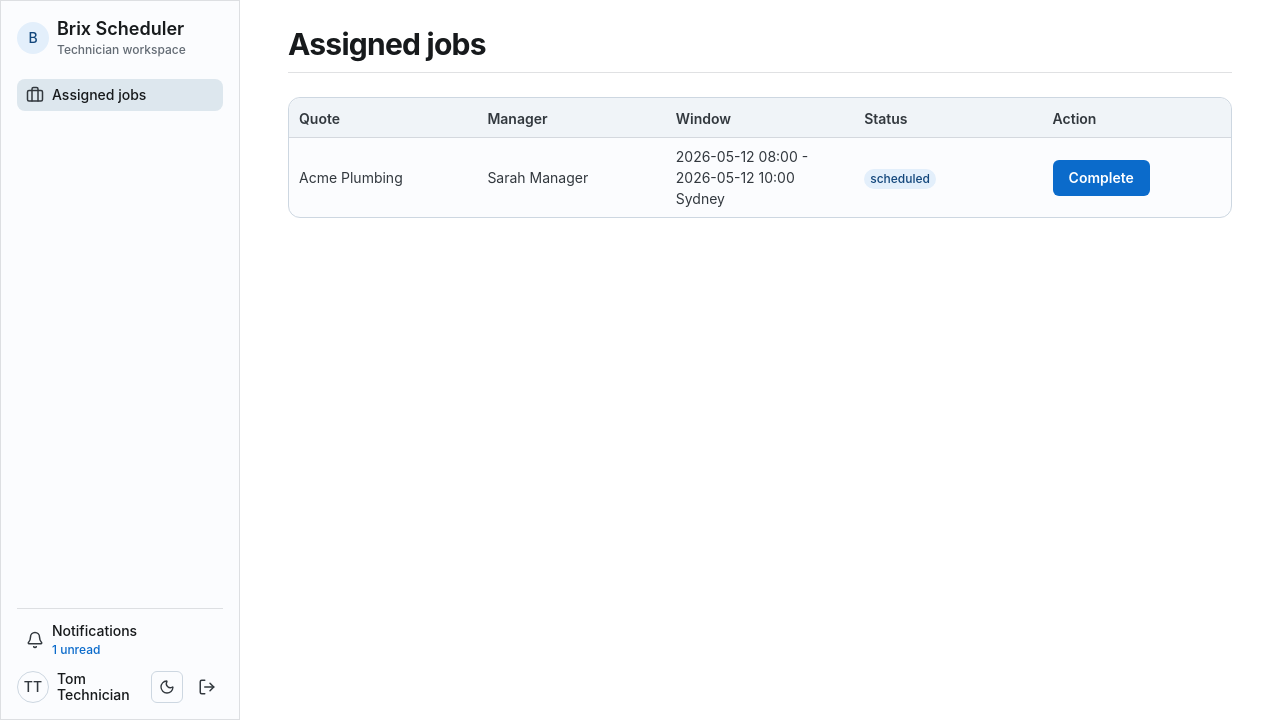
Test: technician dashboard › Assignment notification renders in the notification drawer
This screenshot has width=1280, height=720.
Click the button with aria-label "Open notifications" at (82, 639), box [26,622,137,657]
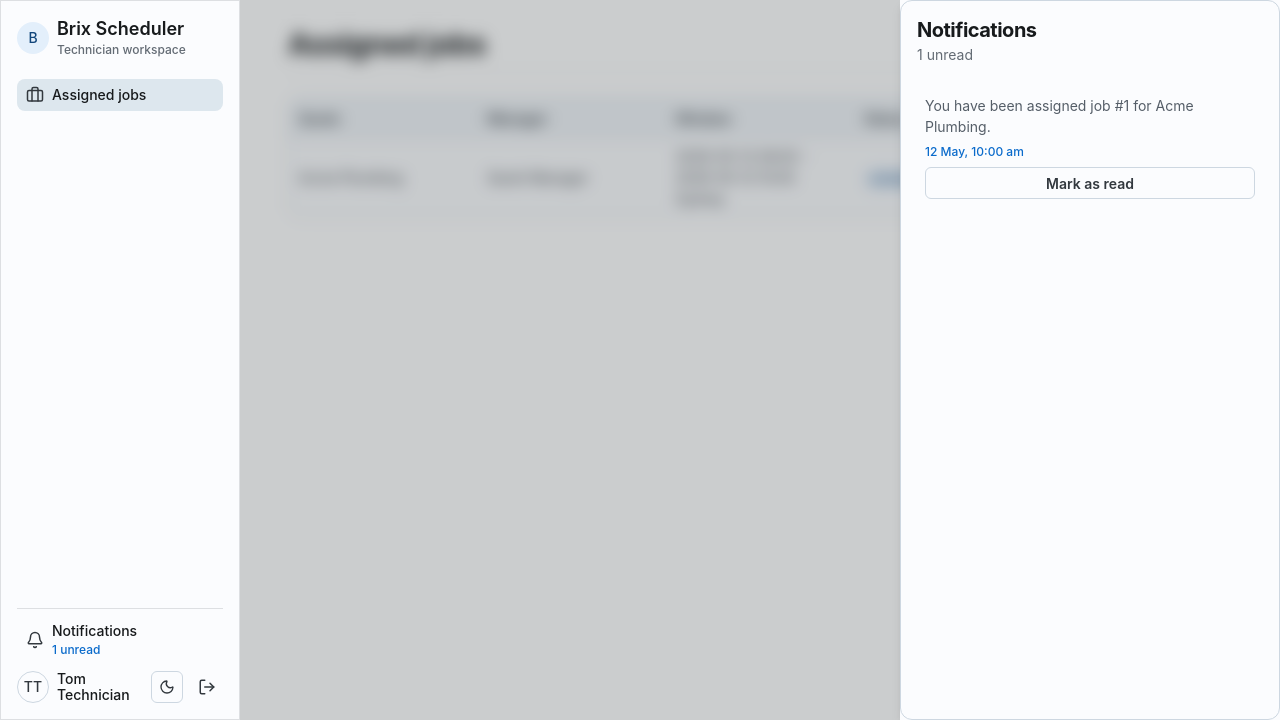
Expected: the dialog "Notifications" shows "You have been assigned job #1 for Acme Plumbing.", [925,97,1194,135]
Expected: the dialog "Notifications" shows "12 May", [925,144,1024,159]
